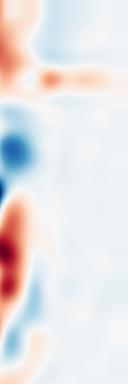filament: (0, 195, 42, 309)
